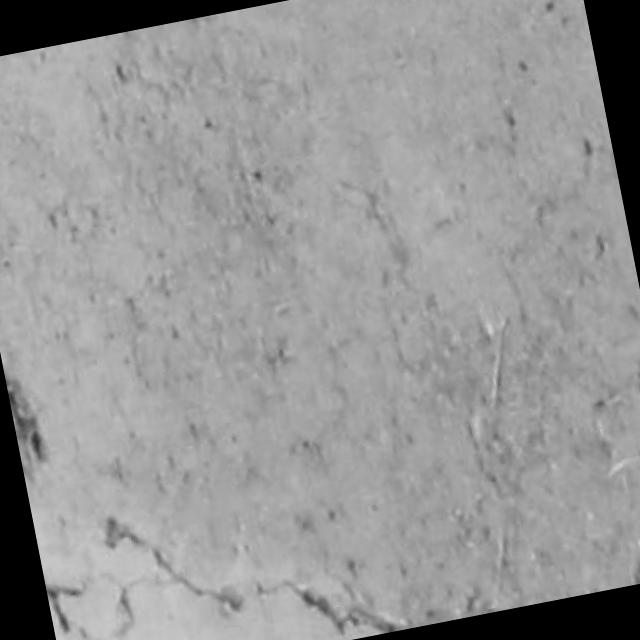crack: (105, 517, 243, 612), (105, 517, 243, 611), (258, 580, 411, 635), (46, 584, 83, 633)
